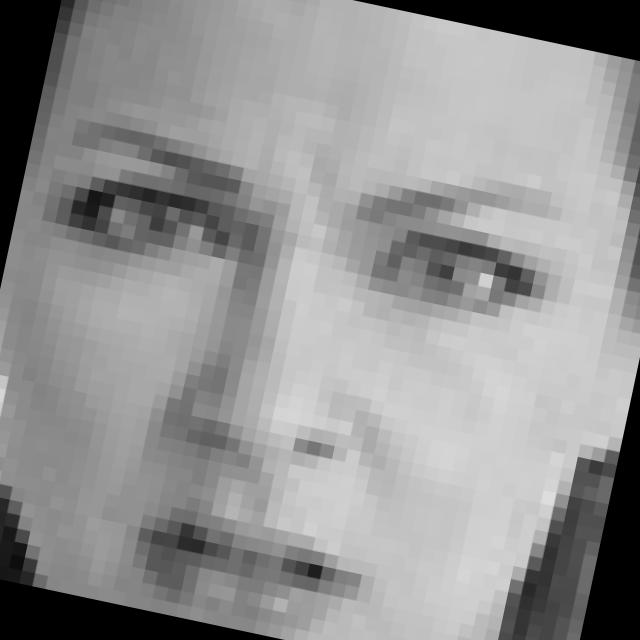disgust: (0, 73, 578, 640)
